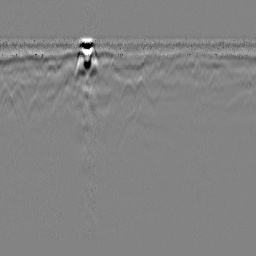cavity: (119, 76, 137, 104)
